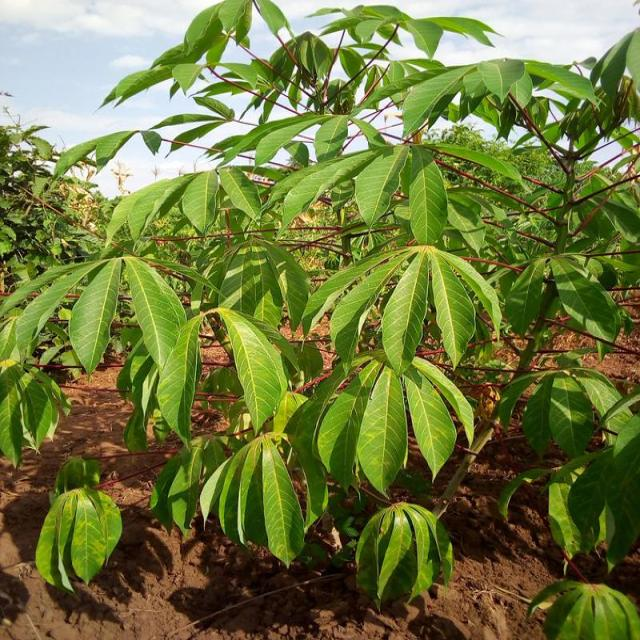cassava leaf: (3, 1, 638, 614), (354, 500, 453, 612), (34, 484, 122, 598), (216, 305, 287, 434)
